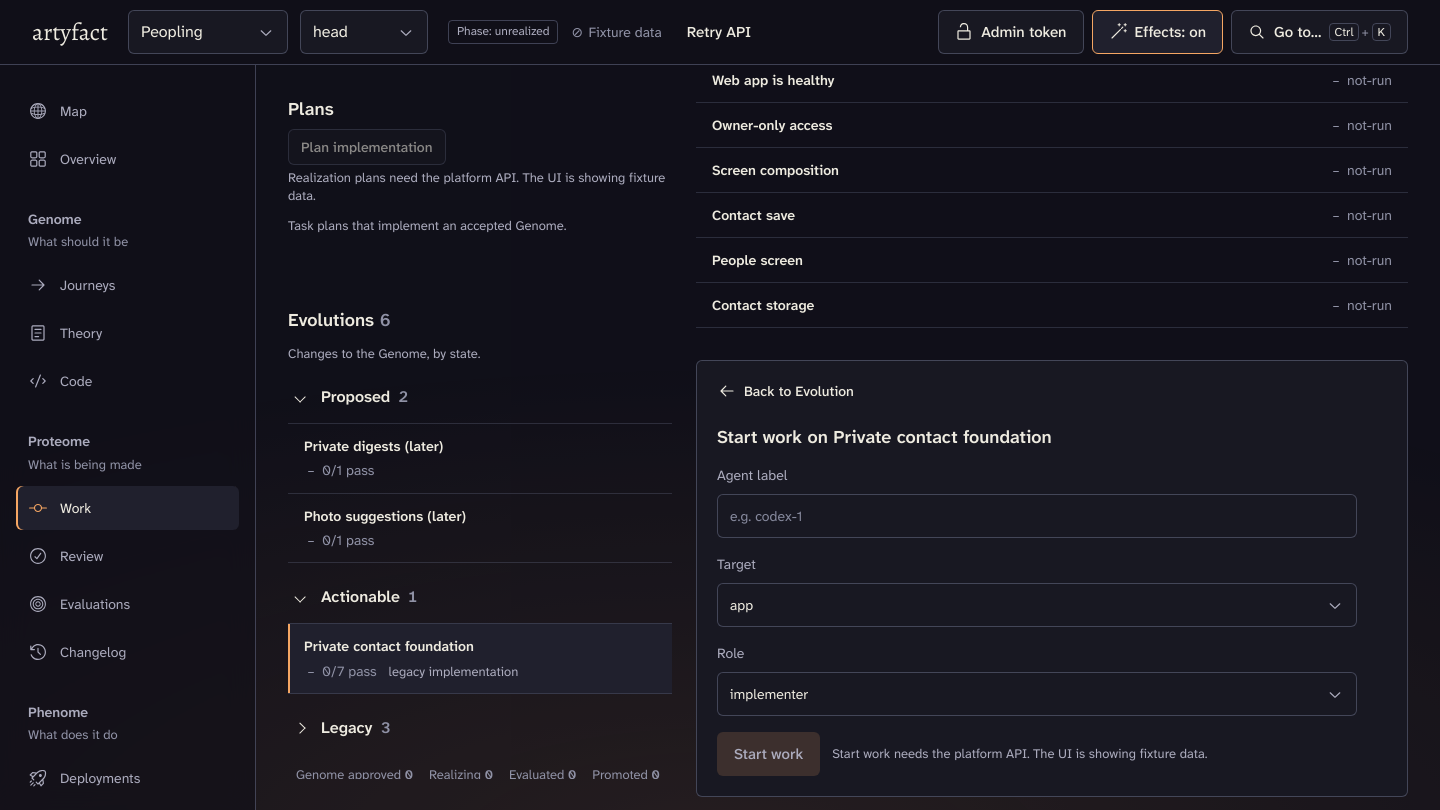
it: StartWorkPanel › replaces the Attempts region with Back to Evolution
(page scrolled)
Expected: the heading "Start work on Private contact foundation" is shown, [717,425,1052,449]
Click the button "Back to Evolution". click: point(786, 391)
box: [705,373,867,409]
(page scrolled)
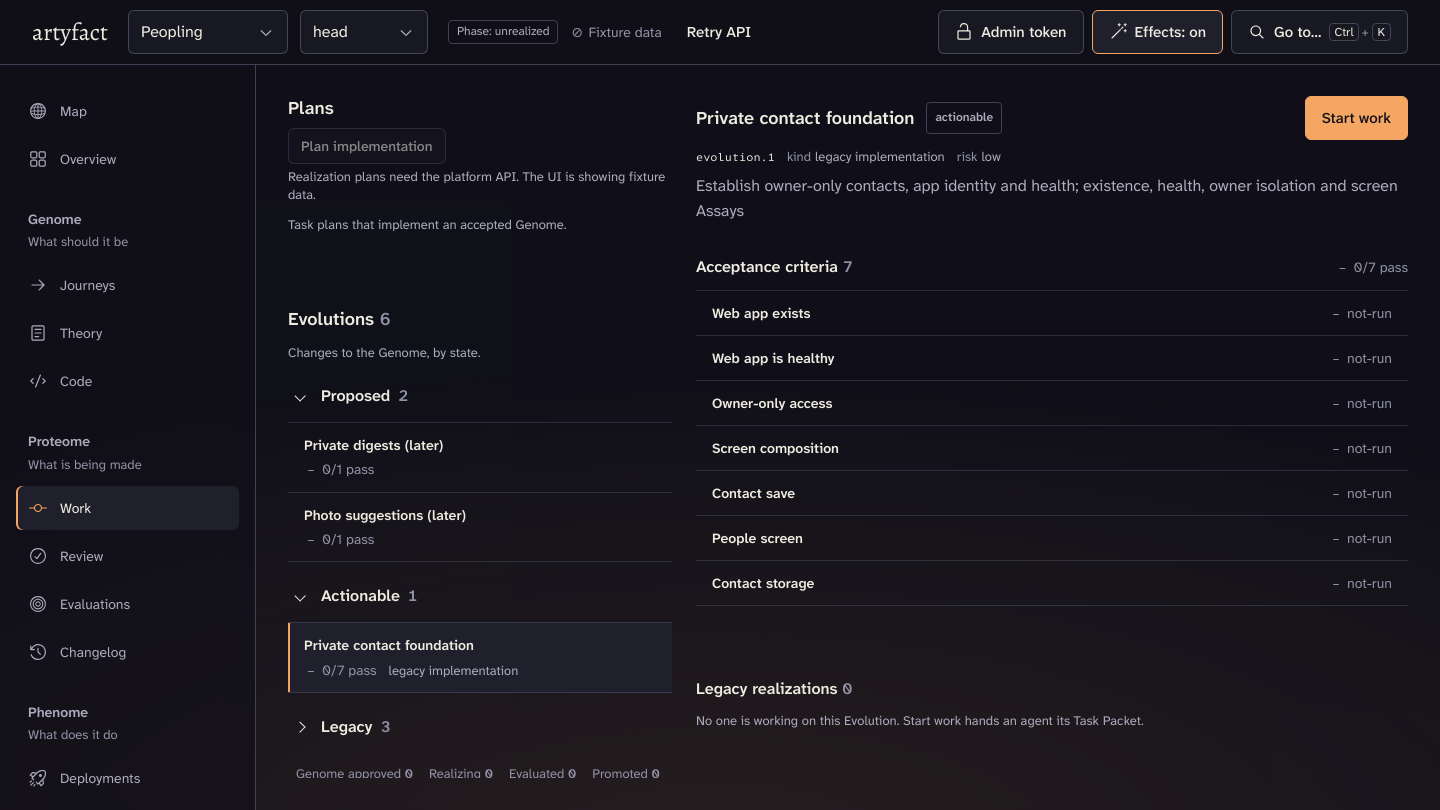
Result: the heading "Legacy realizations 0" is shown at [696,678,852,700]
